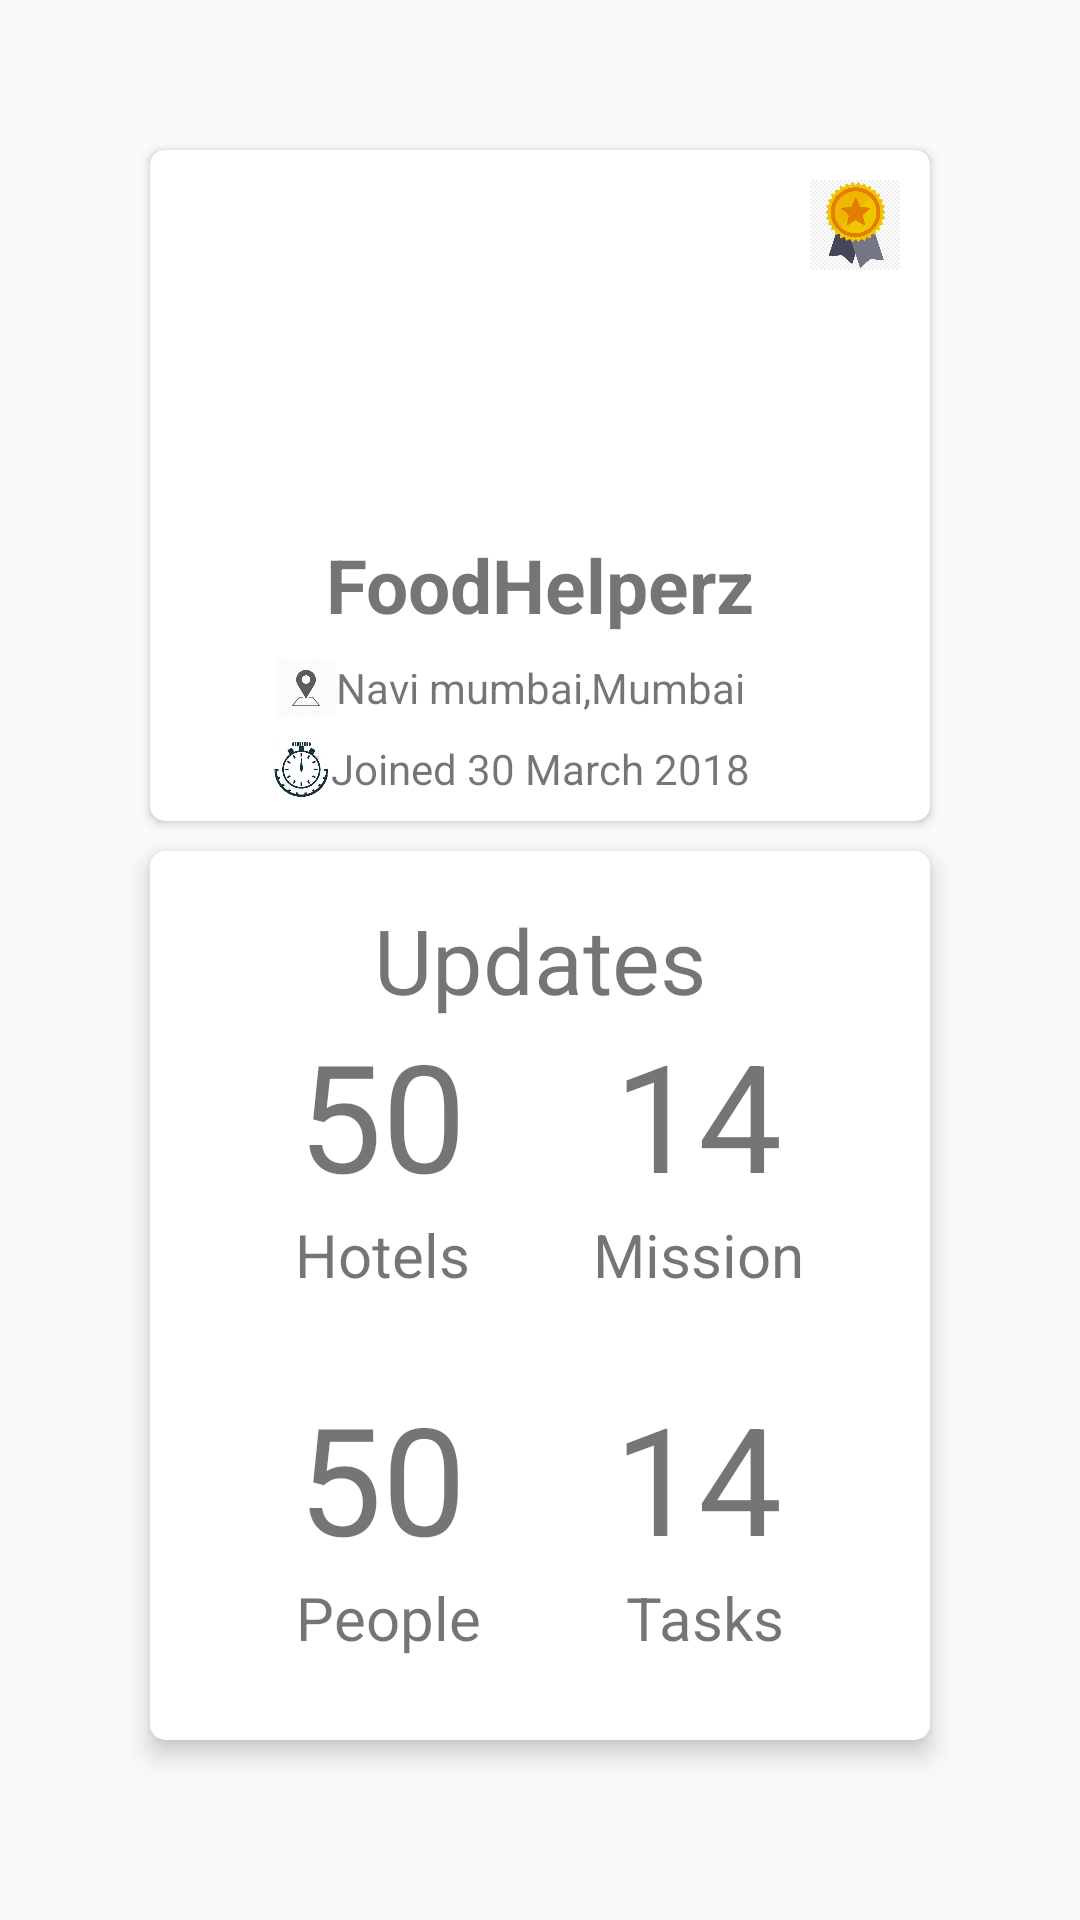

Named icons in this screenshot (1080px x 1920px) and their centers, point (x, y):
badge: point (855, 225)
location: point (306, 688)
time: point (301, 769)
